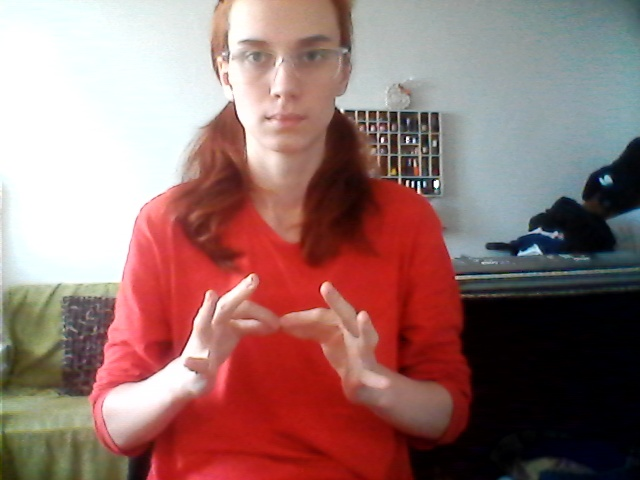b: (179, 269, 393, 421)
